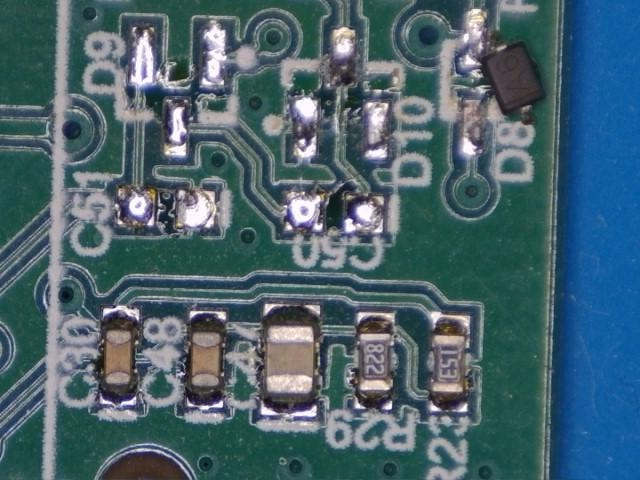pcb_defect: (462, 9, 546, 126)
